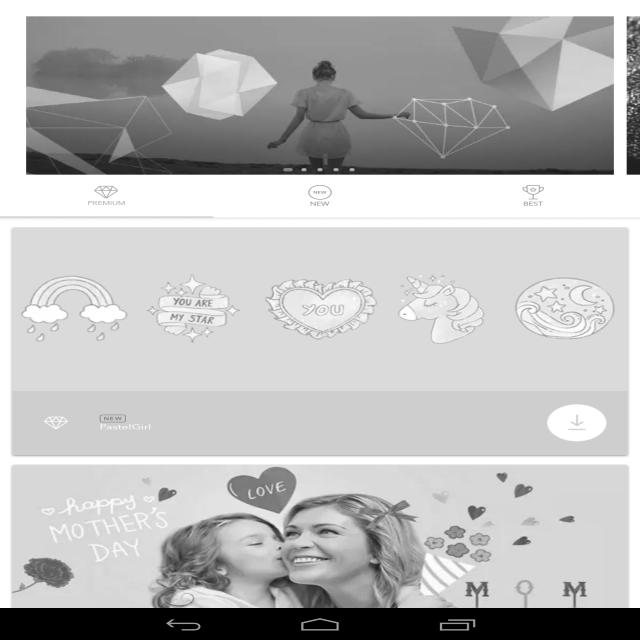ImageButton: (538, 399, 612, 446)
ImageView: (4, 230, 617, 397), (23, 12, 605, 168), (17, 465, 624, 604), (510, 180, 560, 209), (296, 182, 356, 202), (83, 178, 126, 198)
